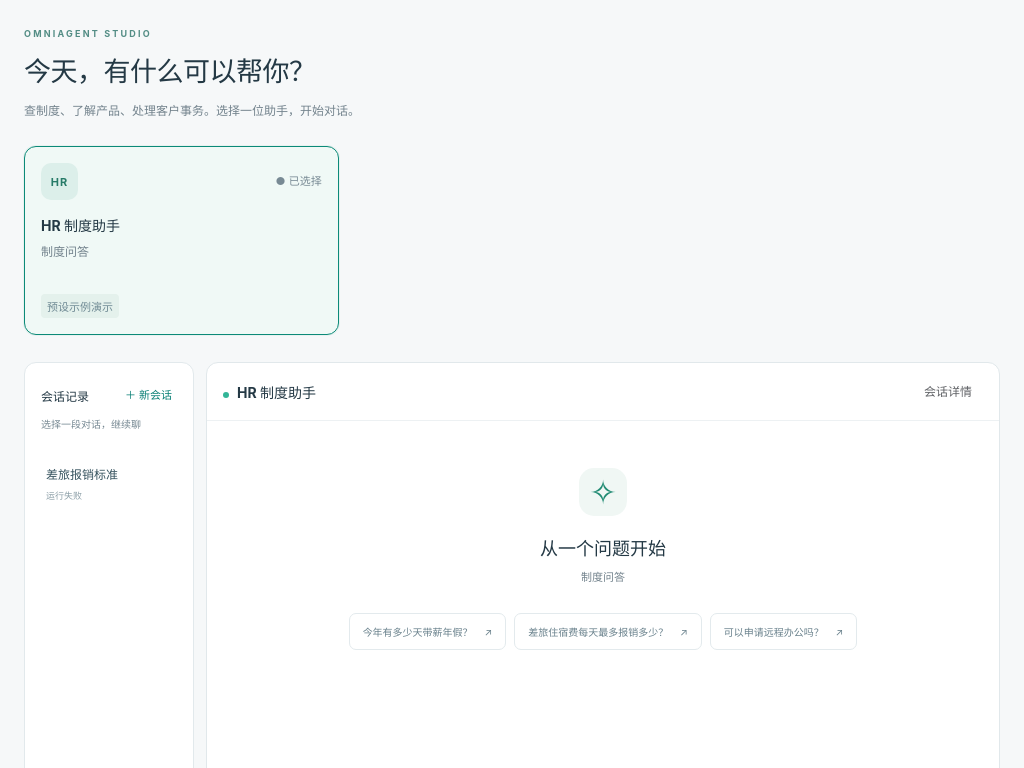
renders persisted budget_exhausted with readable guidance and collapsed known-code details
Click the button with class "session-item" at [109, 484], box [25,451,193,516]
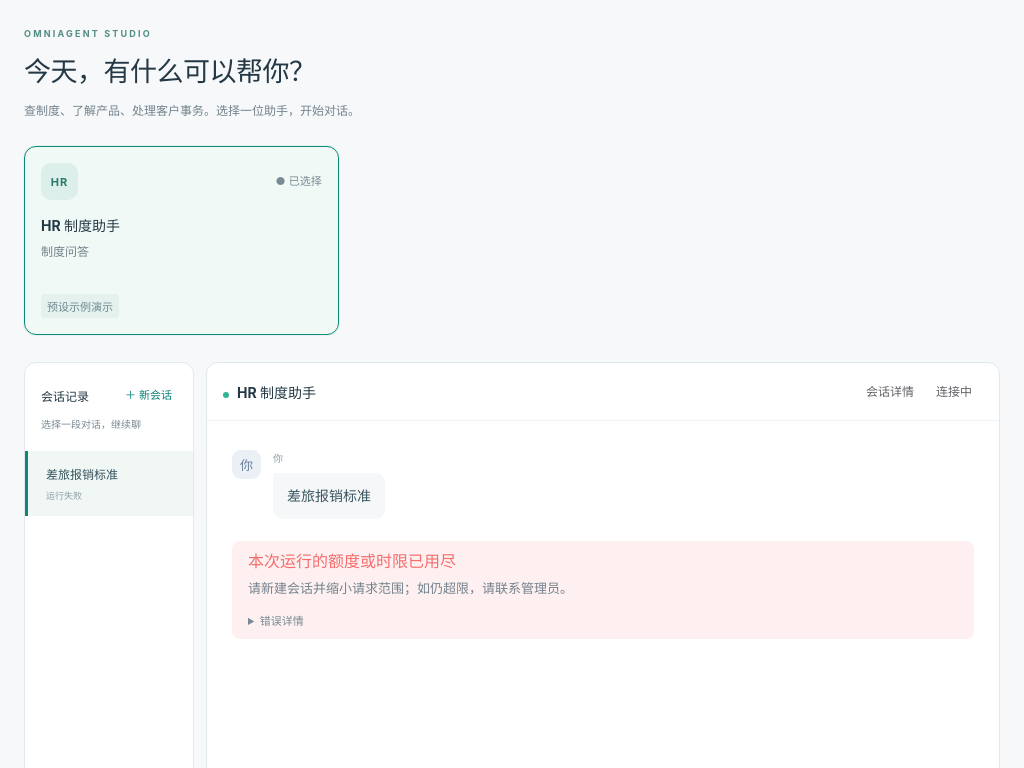
Check: the text "本次运行的额度或时限已用尽" is shown, box [248,551,456,571]
Check: the element with class "run-error" shows "缩小请求范围", box [248,580,573,596]
